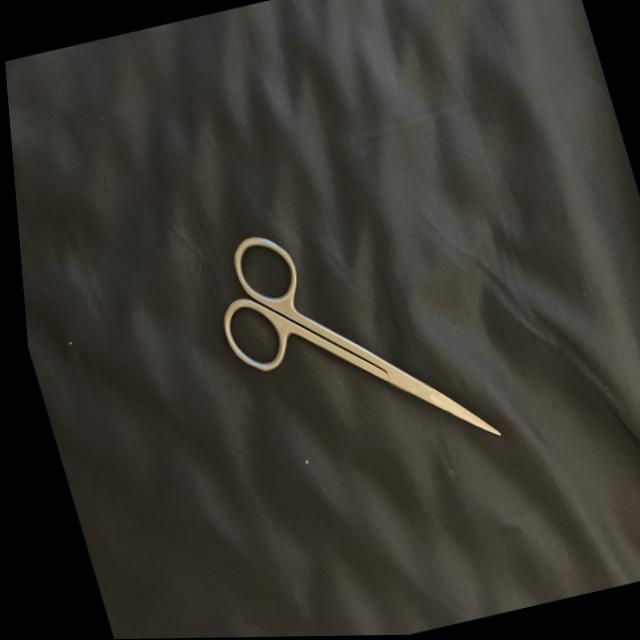scissor: (179, 183, 515, 505)
